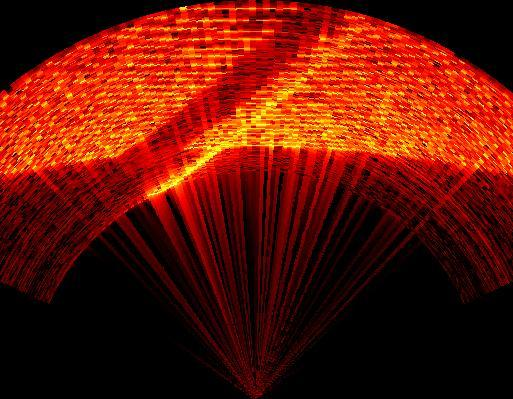pipe: (109, 3, 377, 200)
